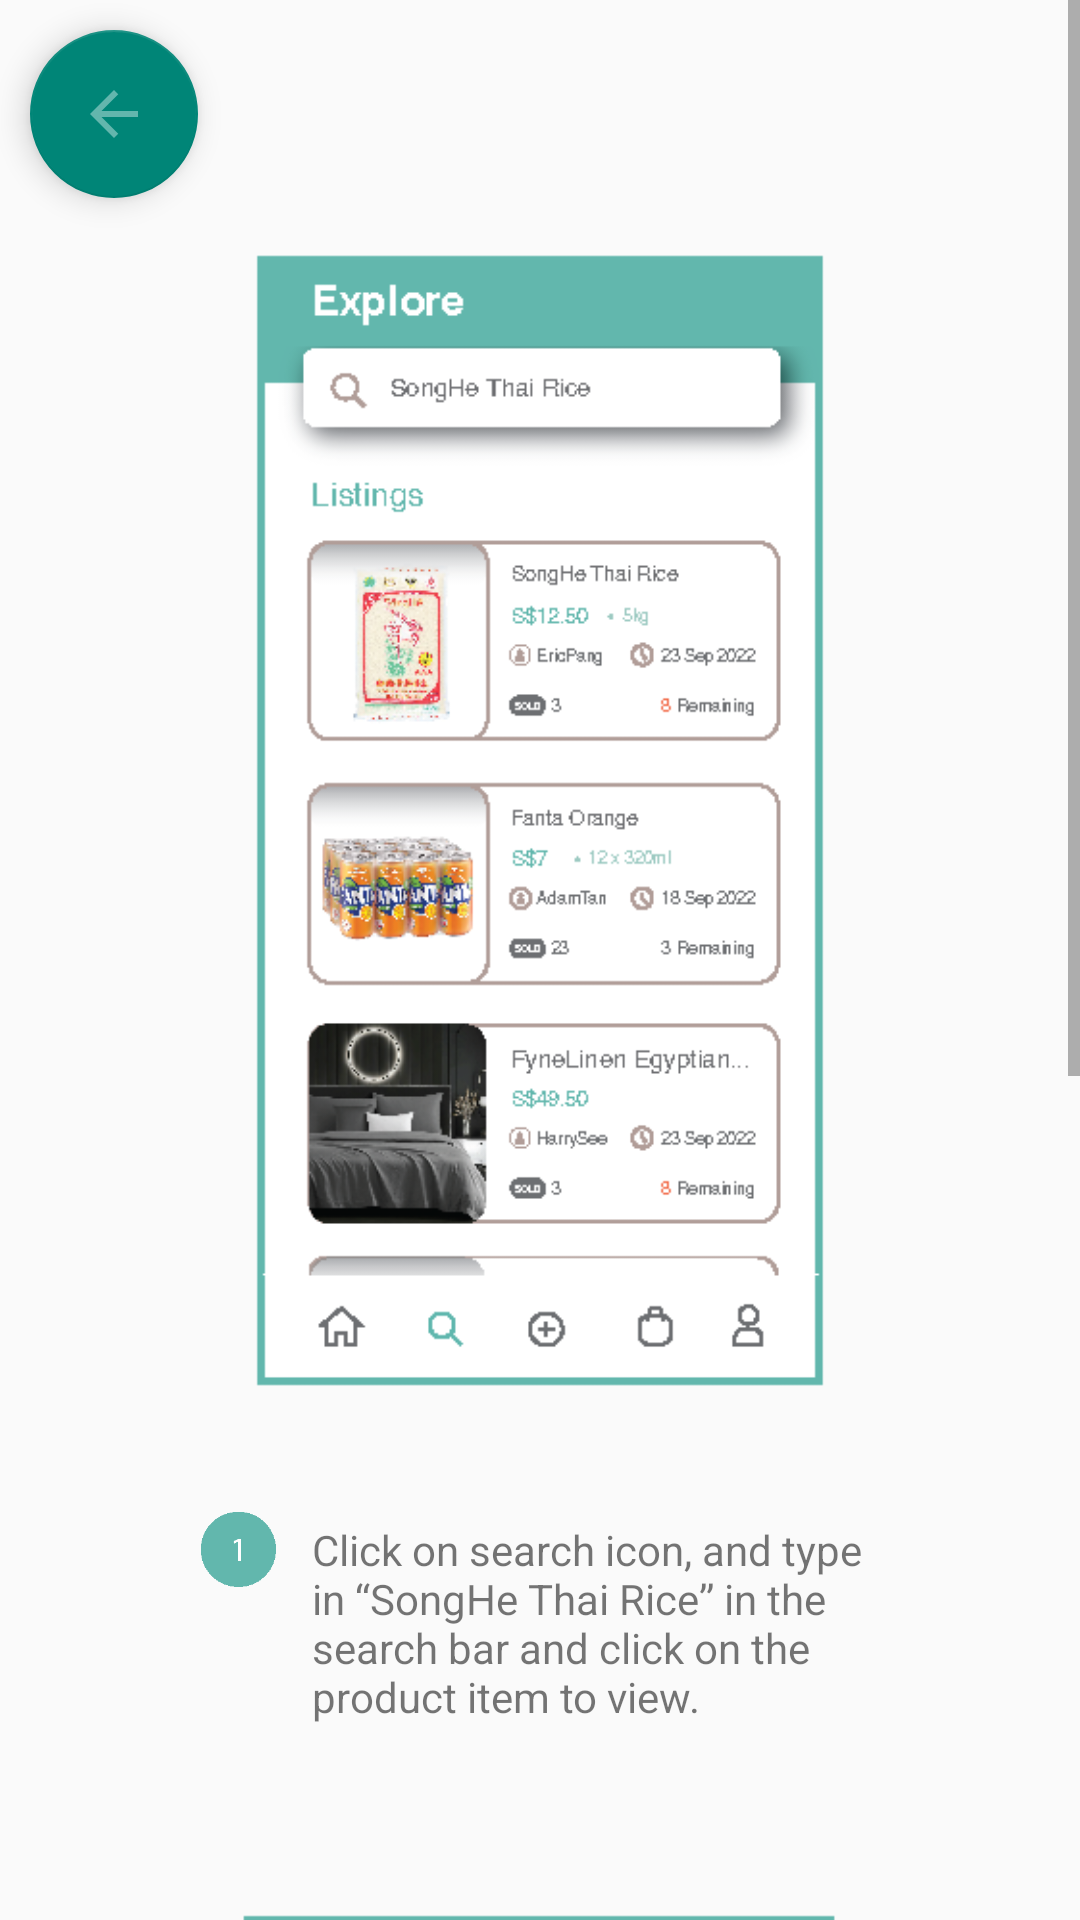

Icons on this 1080px x 1920px Android screen, each with the point to tap as [x,y]:
arrow back: [114,114]
